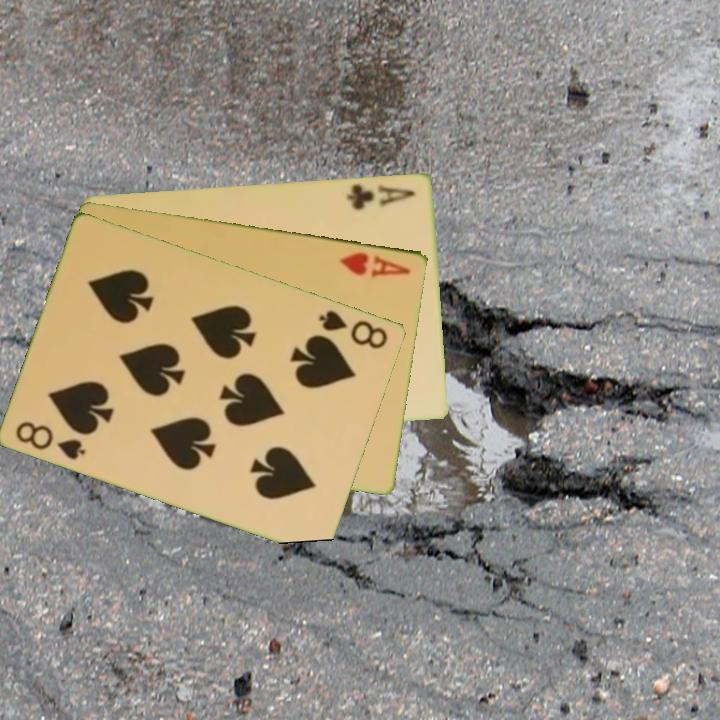8s: (12, 417, 89, 463), (315, 306, 391, 352)
Ac: (344, 180, 419, 212)
Ah: (336, 248, 414, 280)
